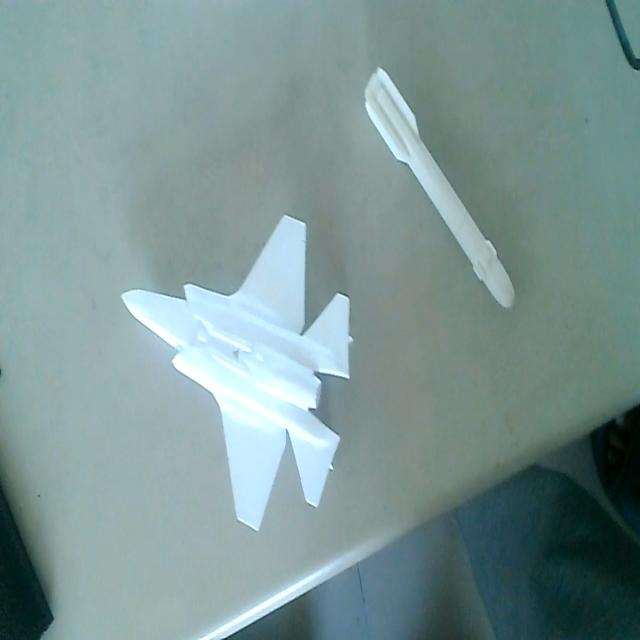Jet: (115, 211, 354, 525)
Rocket: (360, 63, 518, 312)
